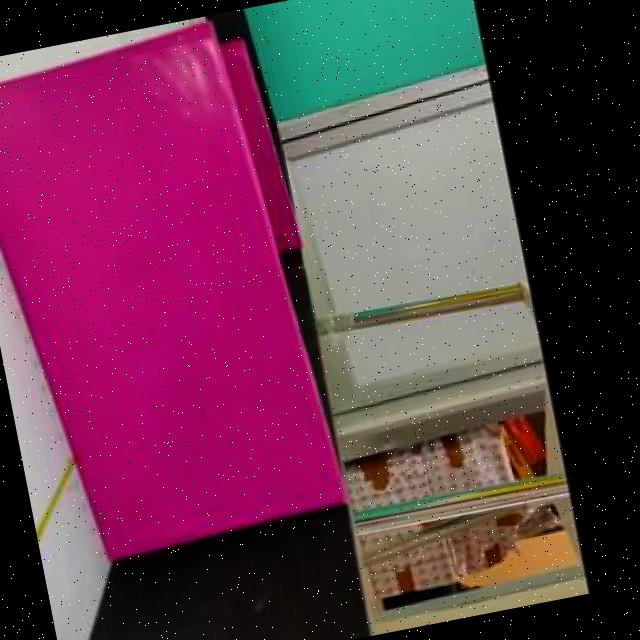xparking: (0, 21, 347, 561), (225, 44, 303, 249)
